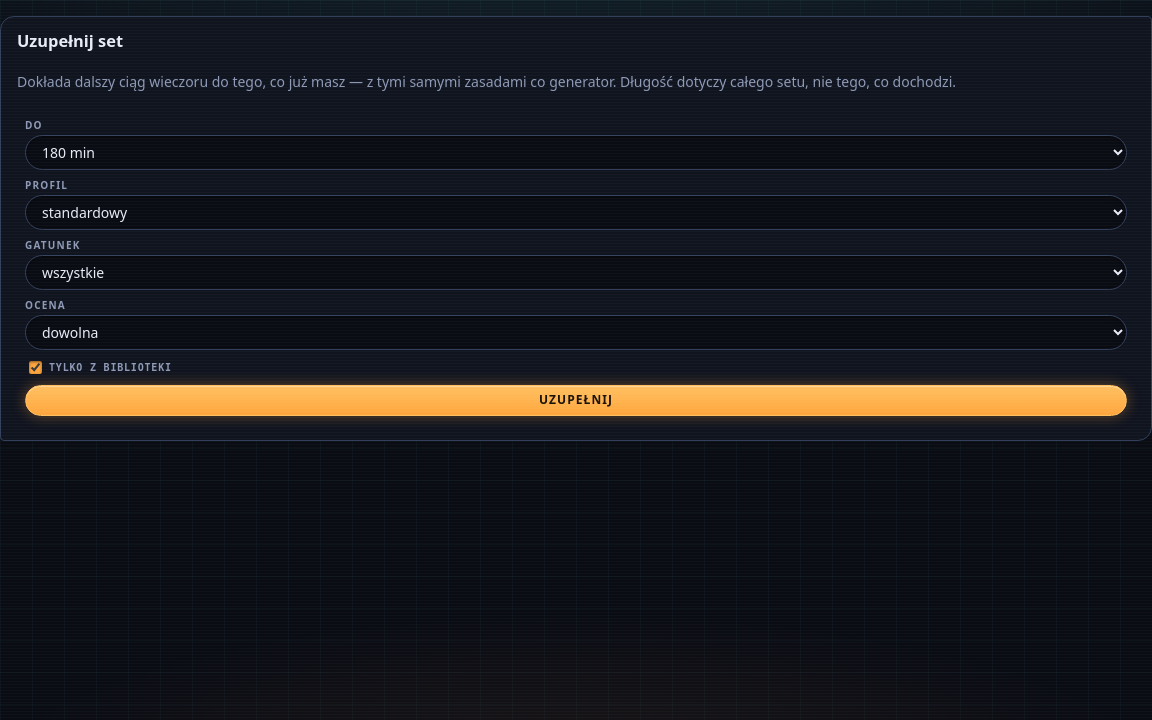
SetFillPanel › dopisuje utwory dopiero po kliknięciu i czyści podgląd
Click the button with test id "fill-set". click: (576, 401)
box: [25,385,1127,416]
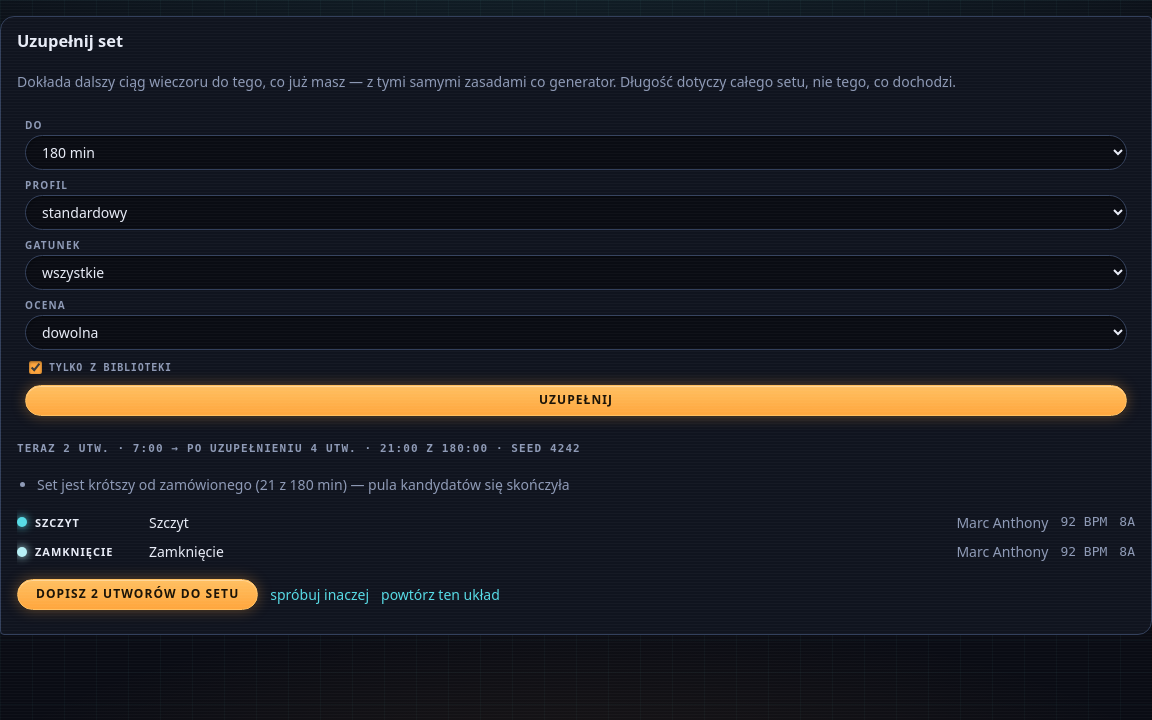
Expected: the element with test id "fill-preview" is shown, [17,440,1135,610]
Click the button with test id "fill-append". click: (138, 594)
box: [17,579,258,610]
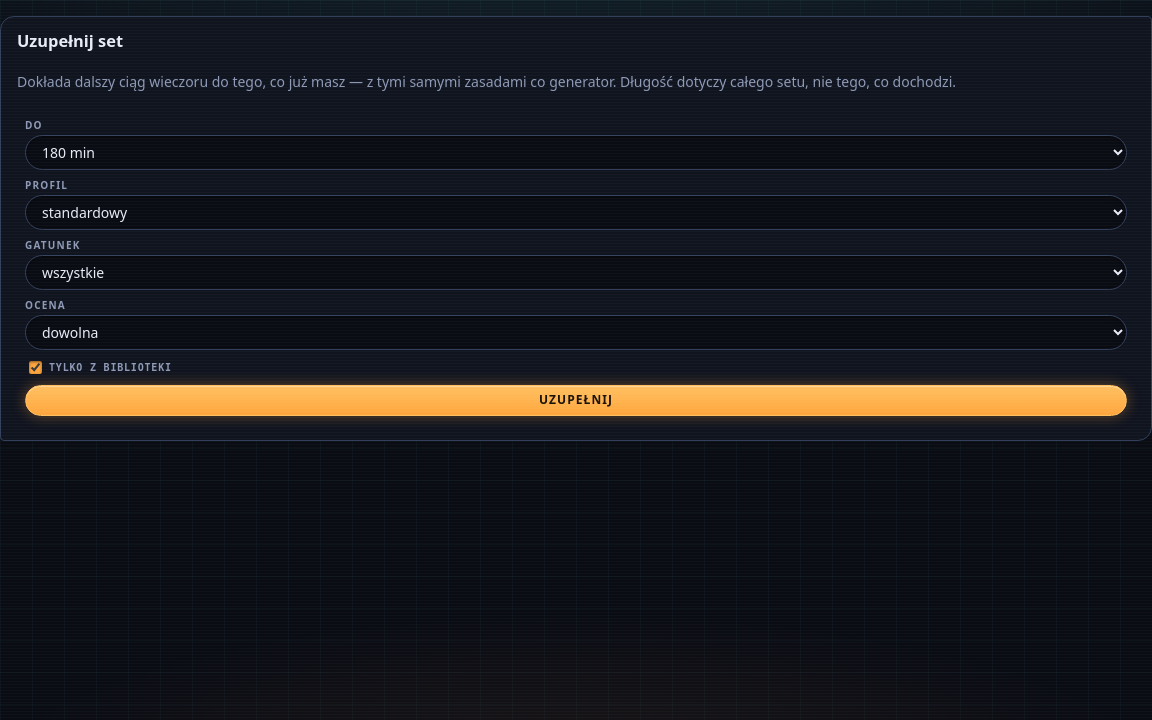
Expected: the element with test id "fill-preview" is gone
